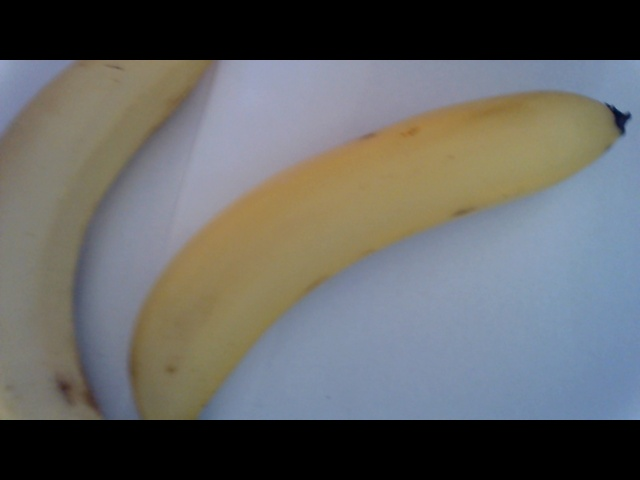banana: (118, 80, 630, 398)
